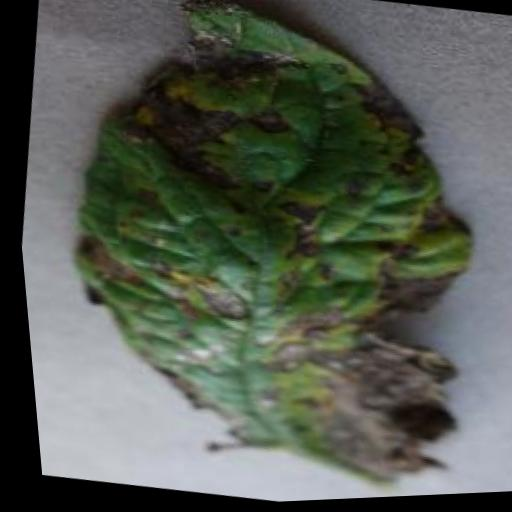Early Blight: (22, 0, 512, 507)
